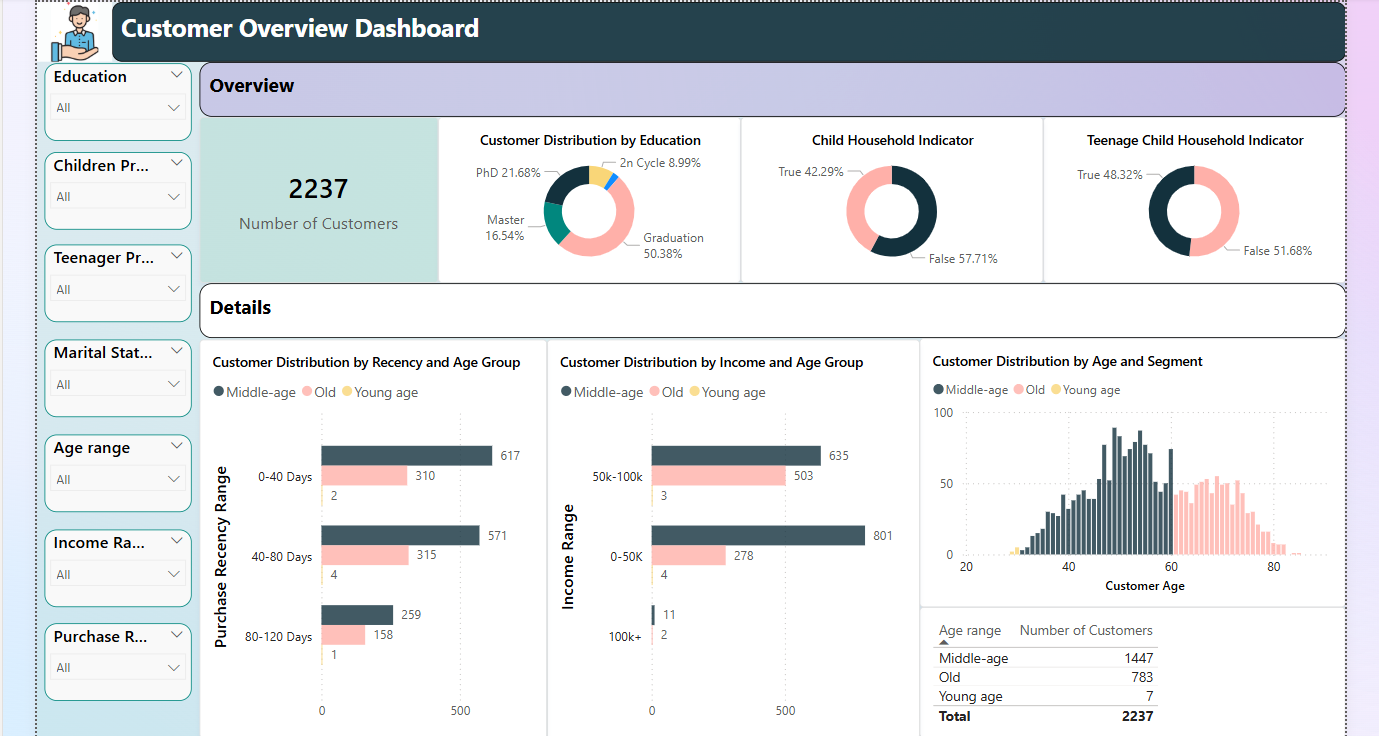

Layout of this report page (visuals, bound fields, positions):
{"tool":"powerbi","page":{"name":"Page 1","canvas":[1280,720],"ordinal":0},"visuals":[{"type":"textbox","box":[73.4,0,1206.9,58.7],"z":0},{"type":"image","box":[0,0,73.4,58.7],"z":1000},{"type":"slicer","fields":{"Values":["Customer Overview Data.Education"]},"box":[7.3,59.9,144.3,75.8],"z":2000},{"type":"textbox","box":[159,58.7,1121.3,53.8],"z":3000},{"type":"card","fields":{"Values":["Customer Overview Data.Number of Customers"]},"box":[159,112.5,233.6,162.6],"z":4000},{"type":"donutChart","title":"Customer Distribution by Education","fields":{"Y":["Customer Overview Data.Number of Customers"],"Series":["Customer Overview Data.Education"]},"box":[392.5,112.5,295.9,162.6],"z":5000},{"type":"donutChart","title":"Teenage Child Household Indicator","fields":{"Y":["Customer Overview Data.Number of Customers"],"Series":["Customer Overview Data.Teenhome_Flag"]},"box":[984.4,112.5,295.9,162.6],"z":7000},{"type":"donutChart","title":"Child Household Indicator","fields":{"Y":["Customer Overview Data.Number of Customers"],"Series":["Customer Overview Data.Kidhome_Flag"]},"box":[688.5,112.5,295.9,162.6],"z":8000},{"type":"textbox","box":[159,275.1,1121.3,53.8],"z":10000},{"type":"columnChart","title":"Customer Distribution by Age and Segment","fields":{"Category":["Customer Overview Data.Customer Age"],"Series":["Customer Overview Data.Age range"],"Y":["Customer Overview Data.Number of Customers"]},"box":[863.3,328.9,417,262.9],"z":11000},{"type":"tableEx","fields":{"Values":["Customer Overview Data.Age range","Customer Overview Data.Number of Customers"]},"box":[863.3,591.9,417,128.4],"z":12000},{"type":"clusteredBarChart","title":"Customer Distribution by Income and Age Group","fields":{"Category":["Customer Overview Data.Income Range"],"Series":["Customer Overview Data.Age range"],"Y":["Customer Overview Data.Number of Customers"]},"box":[498.9,330.2,364.4,390.1],"z":13000},{"type":"clusteredBarChart","title":"Customer Distribution by Recency and Age Group","fields":{"Category":["Customer Overview Data.Purchase Recency Range"],"Series":["Customer Overview Data.Age range"],"Y":["Customer Overview Data.Number of Customers"]},"box":[159,330.2,339.9,390.1],"z":14000},{"type":"slicer","fields":{"Values":["Customer Overview Data.Kidhome_Flag"]},"box":[7.3,146.7,144.3,75.8],"z":15000},{"type":"slicer","fields":{"Values":["Customer Overview Data.Teenhome_Flag"]},"box":[7.3,237.2,144.3,75.8],"z":16000},{"type":"slicer","fields":{"Values":["Customer Overview Data.Marital Status"]},"box":[7.3,330.2,144.3,75.8],"z":17000},{"type":"slicer","fields":{"Values":["Customer Overview Data.Age range"]},"box":[7.3,423.1,144.3,75.8],"z":18000},{"type":"slicer","fields":{"Values":["Customer Overview Data.Income Range"]},"box":[7.3,516,144.3,75.8],"z":19000},{"type":"slicer","fields":{"Values":["Customer Overview Data.Purchase Recency Range"]},"box":[7.3,607.7,144.3,75.8],"z":20000}]}

Visuals, with their boxes in screenshot pixels (x1, y1, x2, y2):
textbox: BBox(128, 0, 1345, 59)
image: BBox(54, 0, 128, 59)
slicer - Customer Overview Data.Education: BBox(61, 60, 207, 137)
textbox: BBox(214, 59, 1345, 113)
card - Customer Overview Data.Number of Customers: BBox(214, 113, 450, 277)
"Customer Distribution by Education" donutChart: BBox(450, 113, 748, 277)
"Teenage Child Household Indicator" donutChart: BBox(1046, 113, 1345, 277)
"Child Household Indicator" donutChart: BBox(748, 113, 1046, 277)
textbox: BBox(214, 277, 1345, 332)
"Customer Distribution by Age and Segment" columnChart: BBox(924, 332, 1345, 597)
tableEx - Customer Overview Data.Age range x Customer Overview Data.Number of Customers: BBox(924, 597, 1345, 726)
"Customer Distribution by Income and Age Group" clusteredBarChart: BBox(557, 333, 924, 726)
"Customer Distribution by Recency and Age Group" clusteredBarChart: BBox(214, 333, 557, 726)
slicer - Customer Overview Data.Kidhome_Flag: BBox(61, 148, 207, 224)
slicer - Customer Overview Data.Teenhome_Flag: BBox(61, 239, 207, 316)
slicer - Customer Overview Data.Marital Status: BBox(61, 333, 207, 409)
slicer - Customer Overview Data.Age range: BBox(61, 427, 207, 503)
slicer - Customer Overview Data.Income Range: BBox(61, 520, 207, 597)
slicer - Customer Overview Data.Purchase Recency Range: BBox(61, 613, 207, 689)
